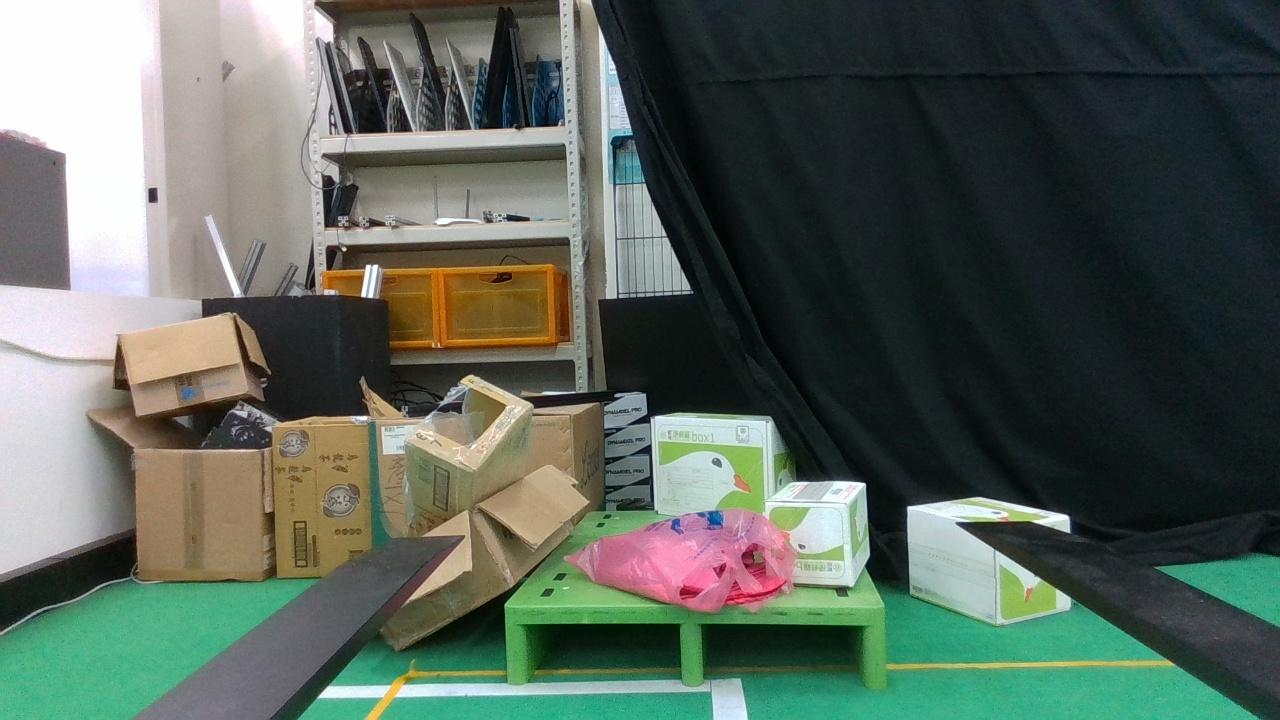Pallet: (506, 605, 888, 688)
